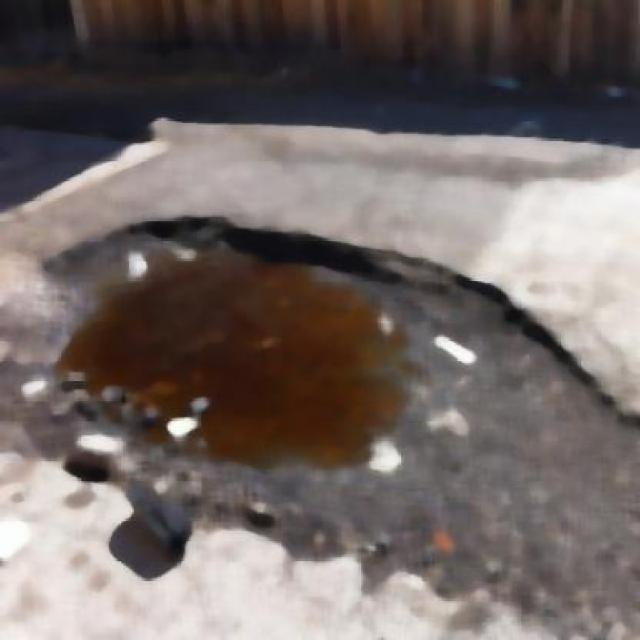Pothole: (74, 217, 412, 503)
